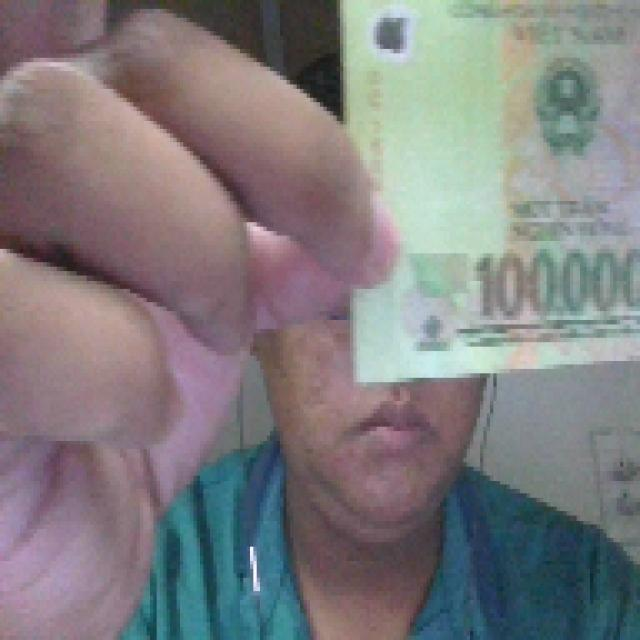100 000 VND: (333, 0, 637, 387)
